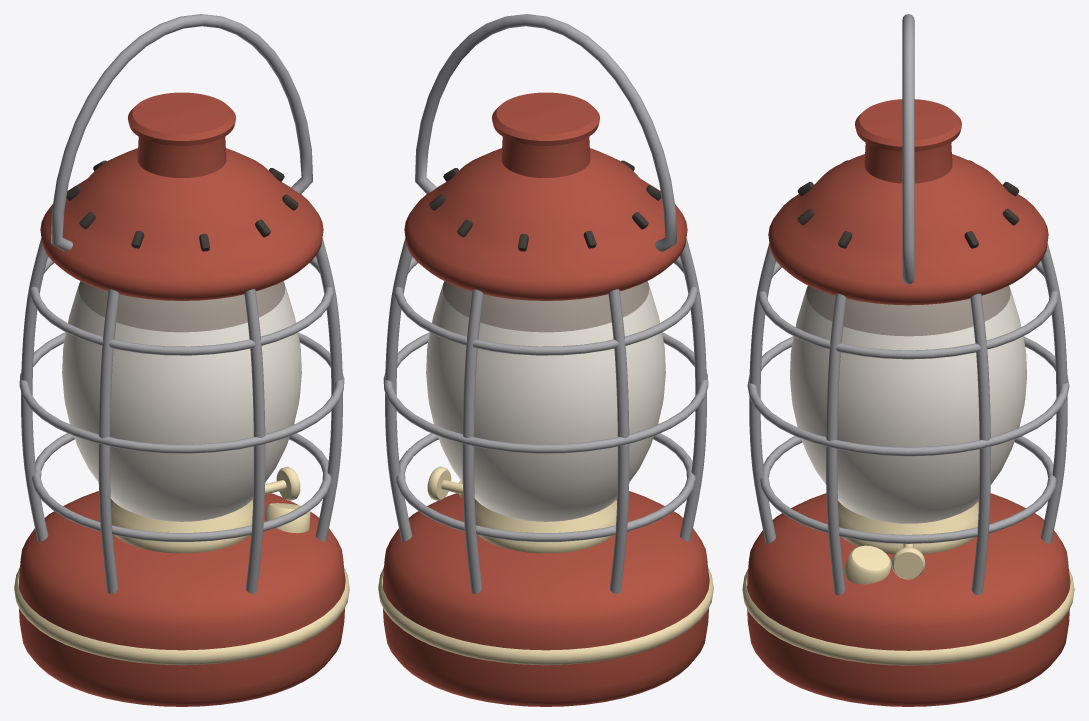
Rendered from lantern.glb.
3 views of the same model, side by side, from view 1: azimuth 30°, elevation 25°; view 2: azimuth 150°, elevation 25°; view 3: azimuth 270°, elevation 25° (orthographic).
Visible parts, largest first — view 1: Body, Bail; view 2: Body, Bail; view 3: Body, Bail.
Part boxes in pixels (<box>): Body: <box>14,92,349,706</box>; Bail: <box>51,14,312,251</box>; Body: <box>378,92,713,706</box>; Bail: <box>415,14,676,251</box>; Body: <box>742,99,1074,706</box>; Bail: <box>902,14,914,284</box>.
Bounding box in the file's own units: 0.1624 × 0.335 × 0.1624.
